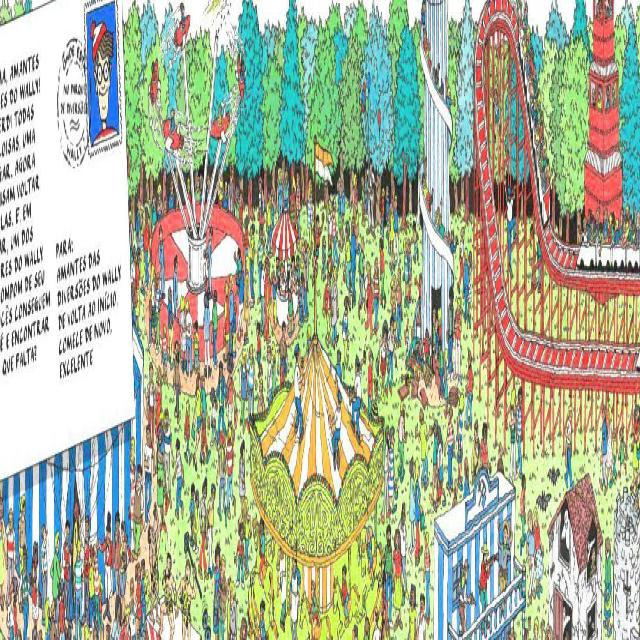waldo: (90, 20, 113, 121)
